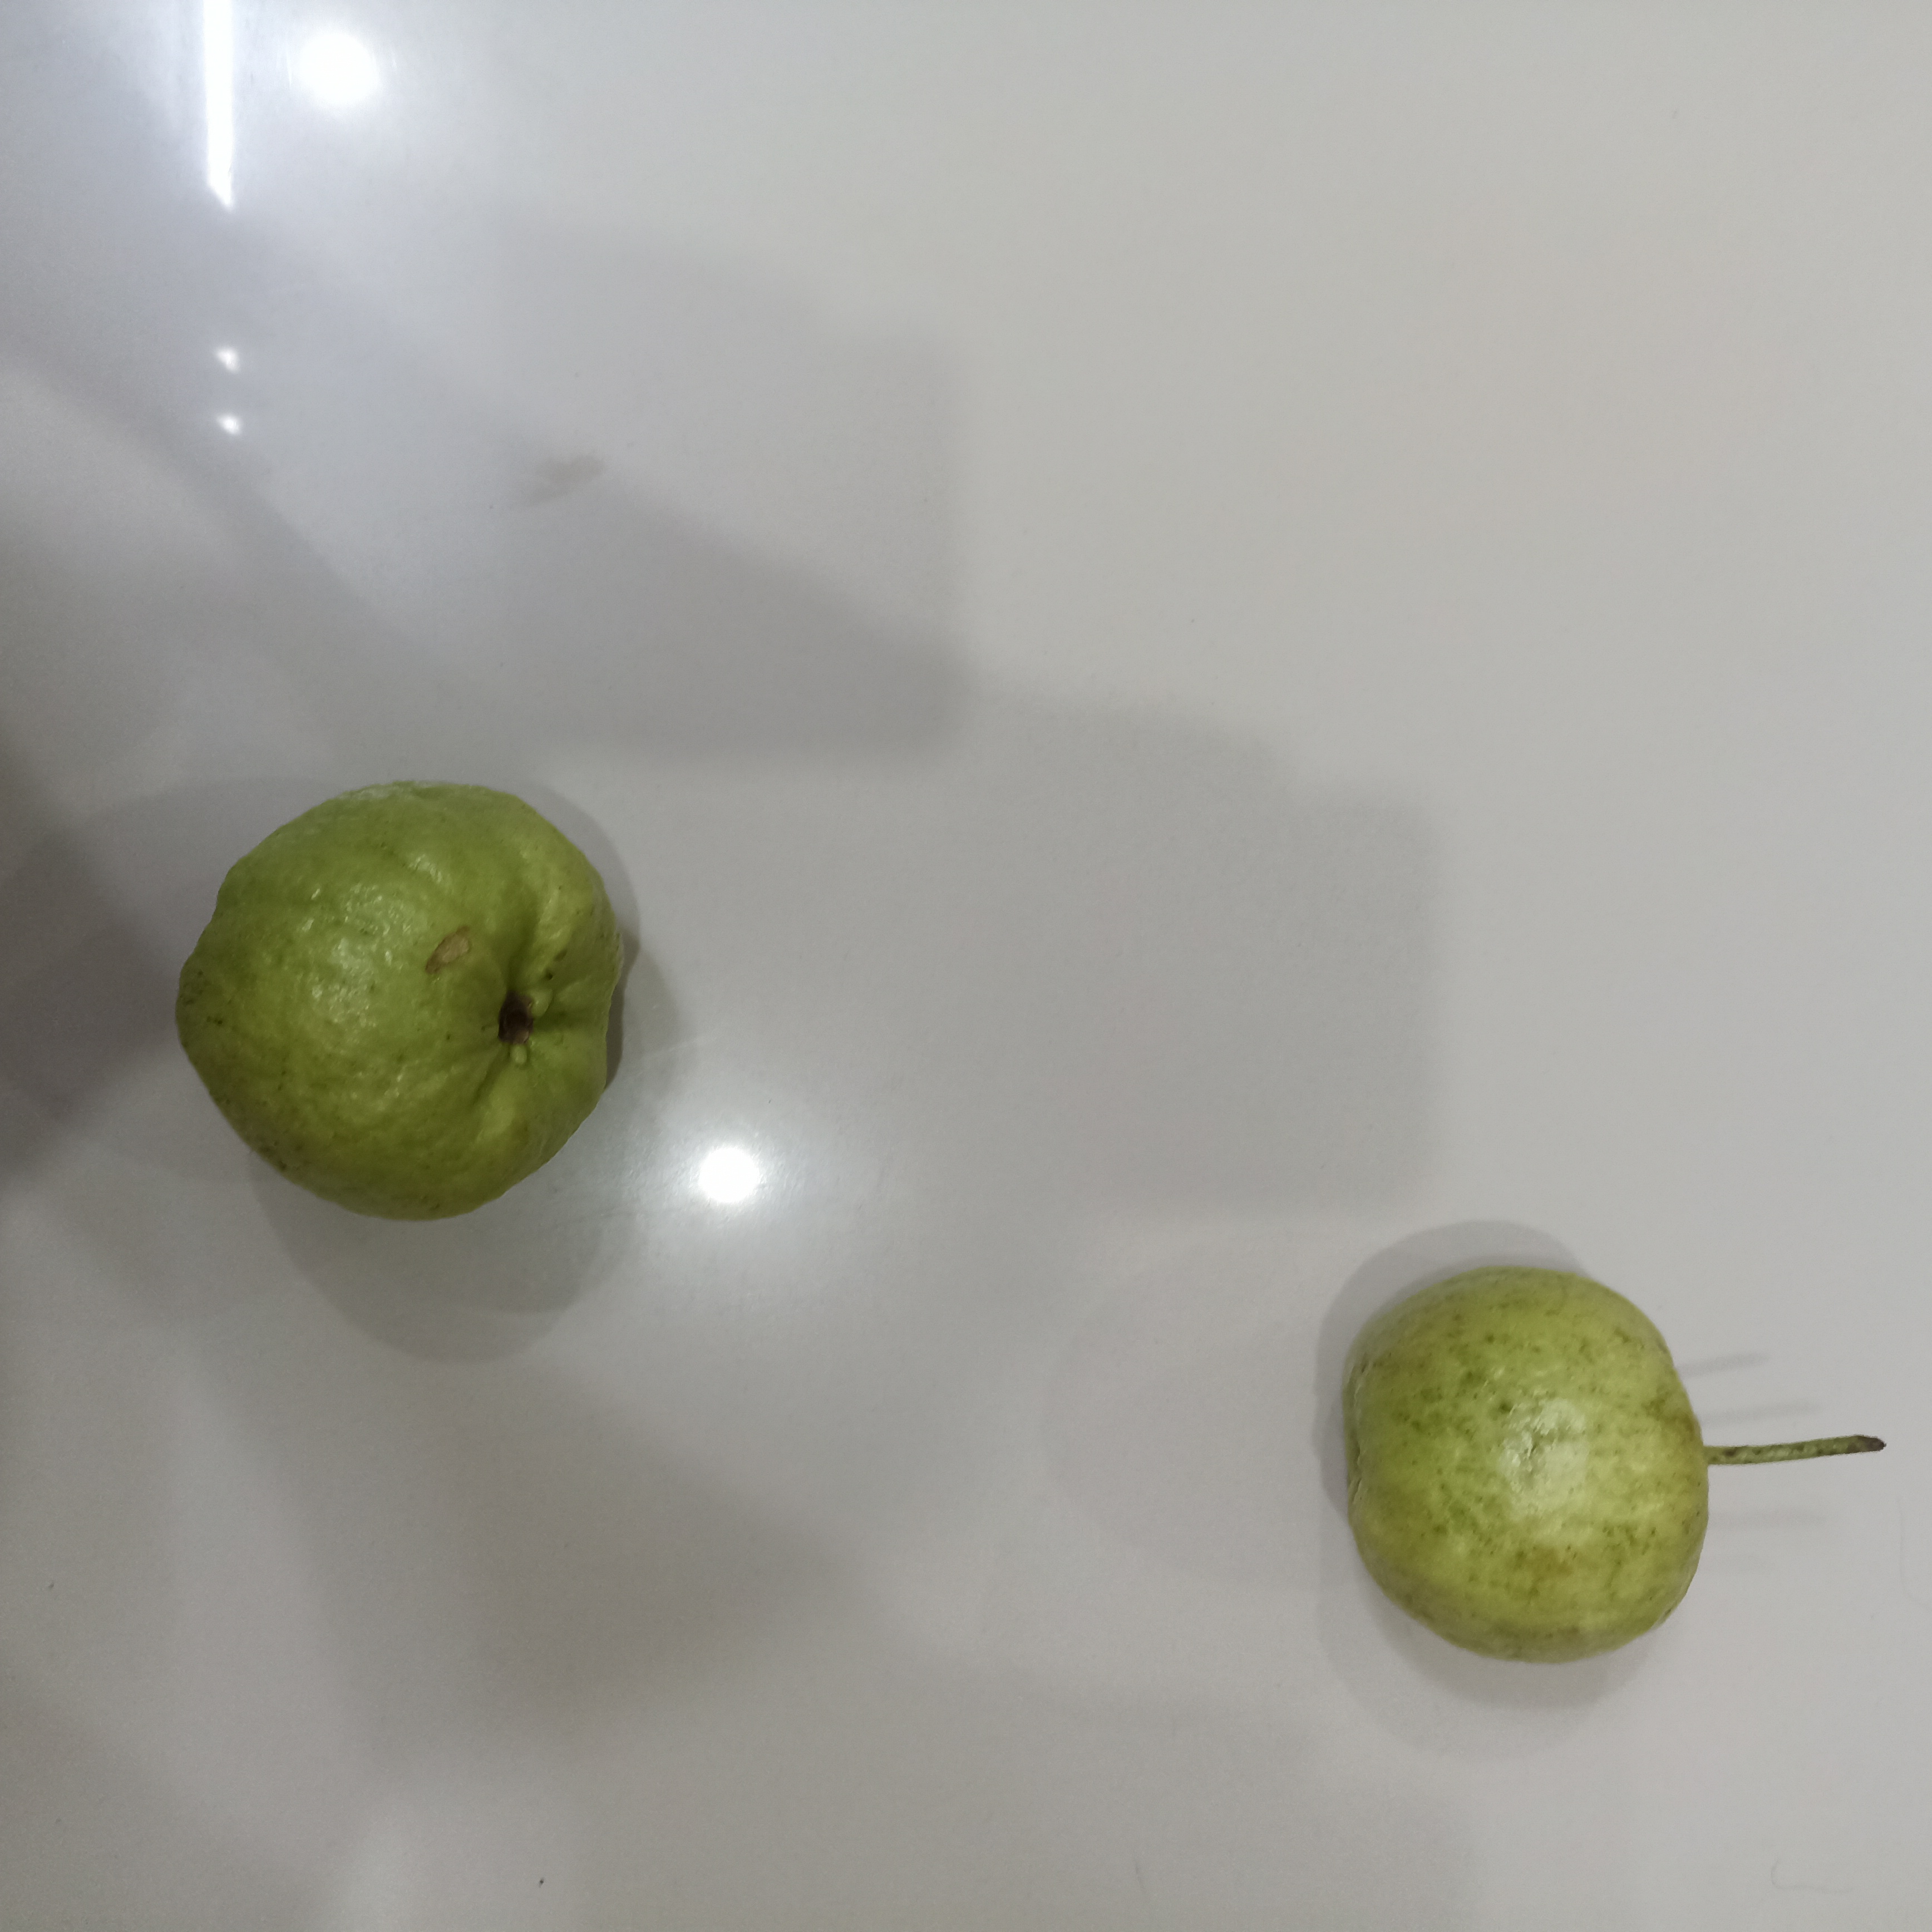Oi: (173, 782, 626, 1226), (1345, 1267, 1707, 1668)
